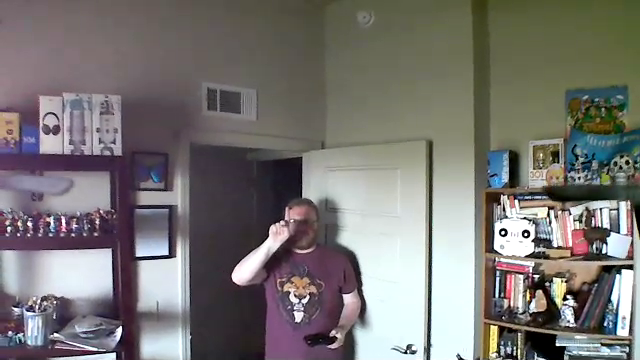up: (265, 203, 297, 241)
